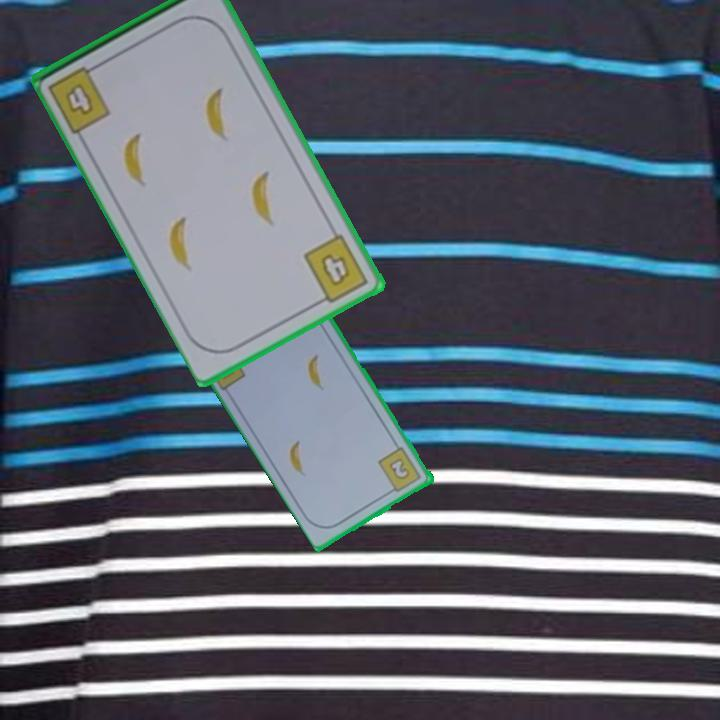2b: (375, 444, 424, 496)
4b: (300, 230, 372, 308), (44, 59, 114, 136)
